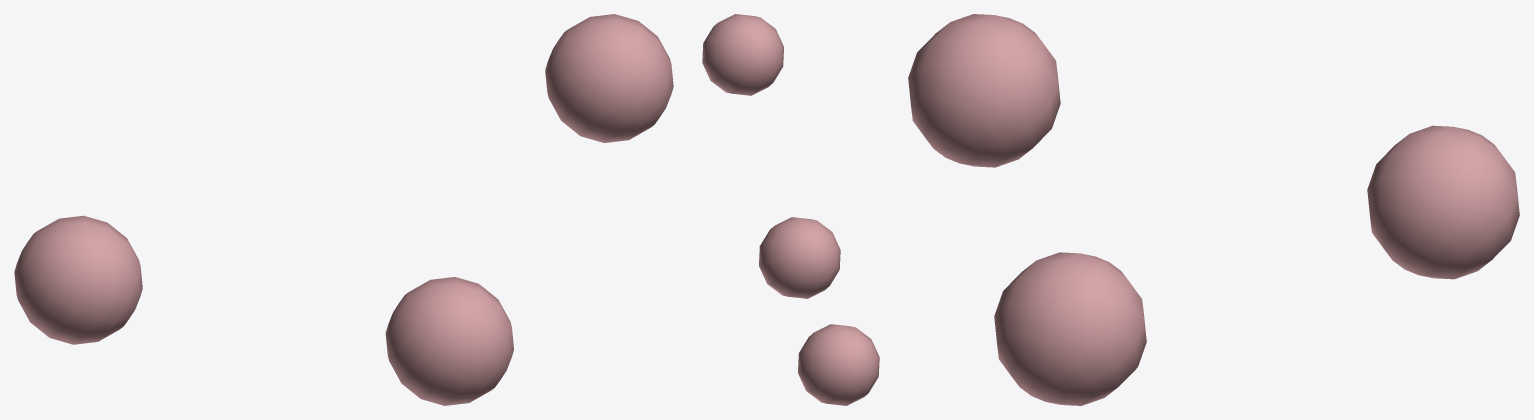
The picture shows the model from 3 angles, left to right: view 1: azimuth 30°, elevation 25°; view 2: azimuth 150°, elevation 25°; view 3: azimuth 270°, elevation 25°; orthographic projection. The views are drawn at different scales.
Visible parts, largest first — view 1: ZA_55ae1ab511ebb3b3; view 2: ZA_55ae1ab511ebb3b3; view 3: ZA_55ae1ab511ebb3b3.
Boxes of the visible parts, x1=… form: ZA_55ae1ab511ebb3b3: x1=14, y1=14, x2=673, y2=405; ZA_55ae1ab511ebb3b3: x1=702, y1=14, x2=879, y2=405; ZA_55ae1ab511ebb3b3: x1=908, y1=14, x2=1519, y2=405.
Bounding box in the file's own units: 0.0105 × 0.00832 × 0.0102.
